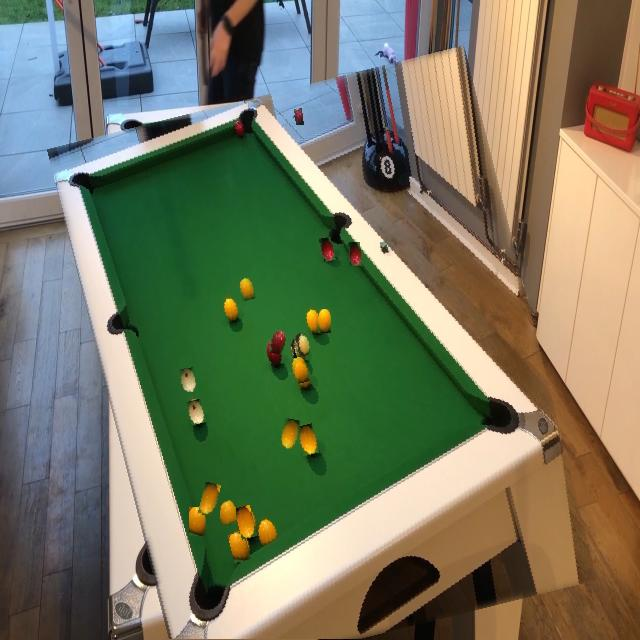Ball: (200, 482, 220, 516), (281, 418, 299, 450), (189, 507, 206, 536), (292, 357, 309, 384), (180, 367, 197, 393), (219, 501, 237, 525), (239, 277, 255, 301), (270, 330, 286, 354), (294, 332, 310, 356), (318, 309, 331, 333), (349, 242, 361, 266), (294, 108, 304, 125)
Billiard table: (76, 67, 567, 640)
